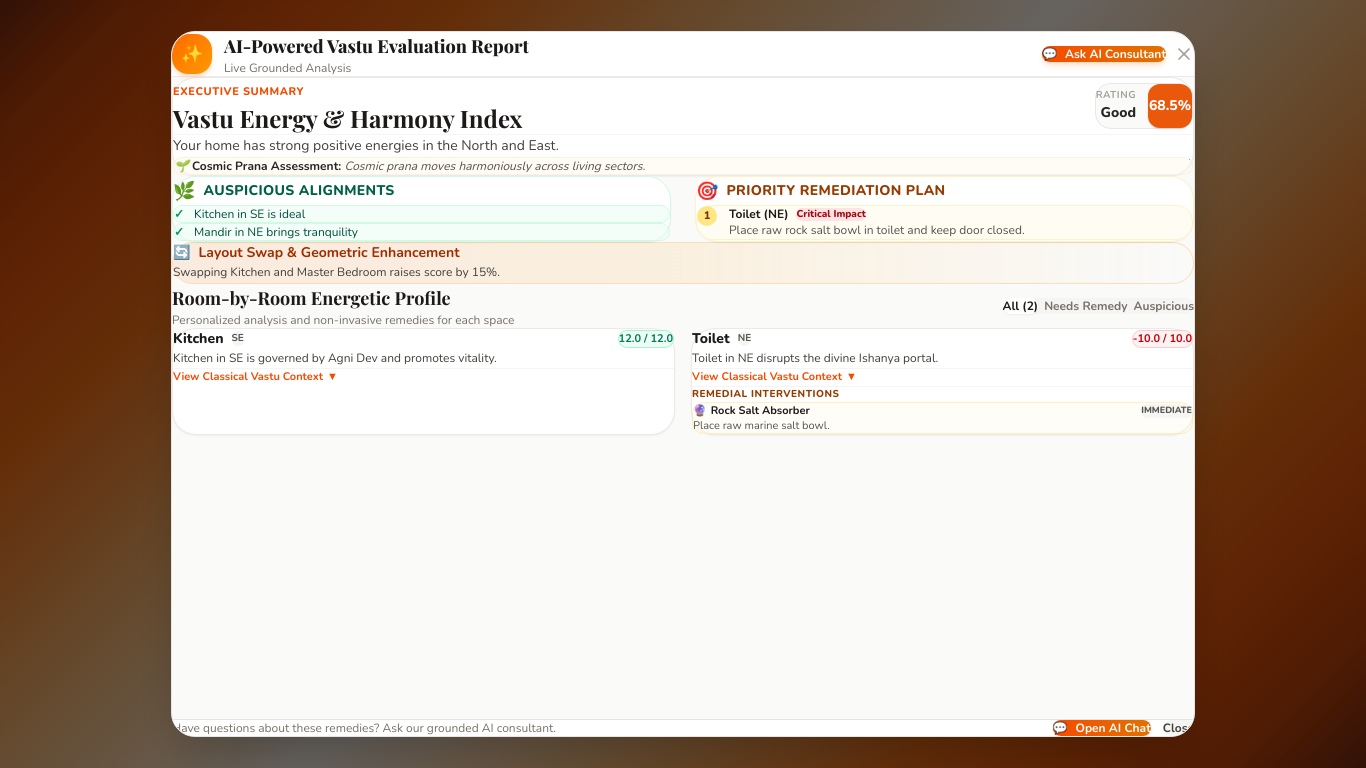
it: AIReportView Component › filters room list by status when clicking filter pills
The width and height of the screenshot is (1366, 768).
// Click 'Needs Remedy'
Click the button "Needs Remedy": (1086, 306) 1044,298 -> 1128,314
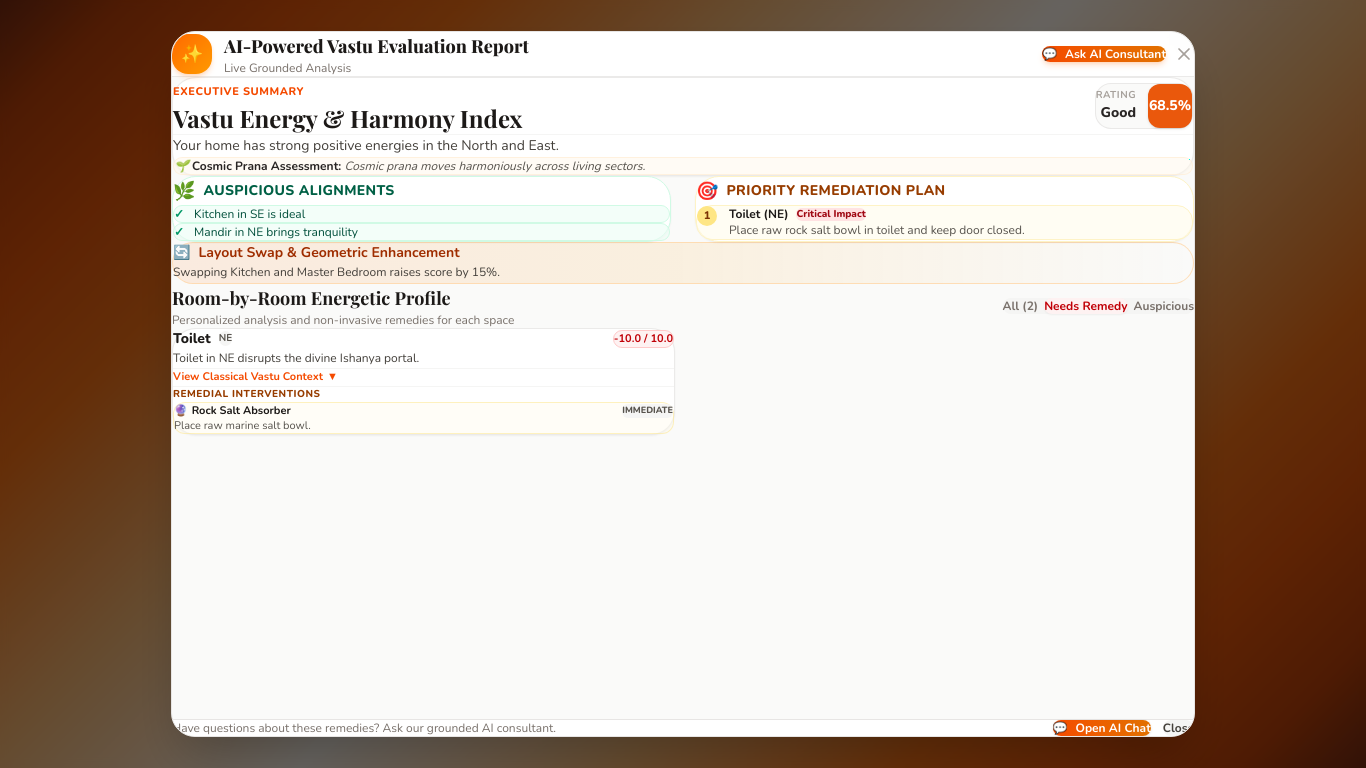
Expected: the text "Toilet in NE disrupts the divine Ishanya portal." is shown, 173,350 -> 419,366
Expected: the text "Kitchen in SE is governed by Agni Dev" is gone
// Click 'Auspicious'
Click the button "Auspicious": (1164, 306) 1134,298 -> 1194,314
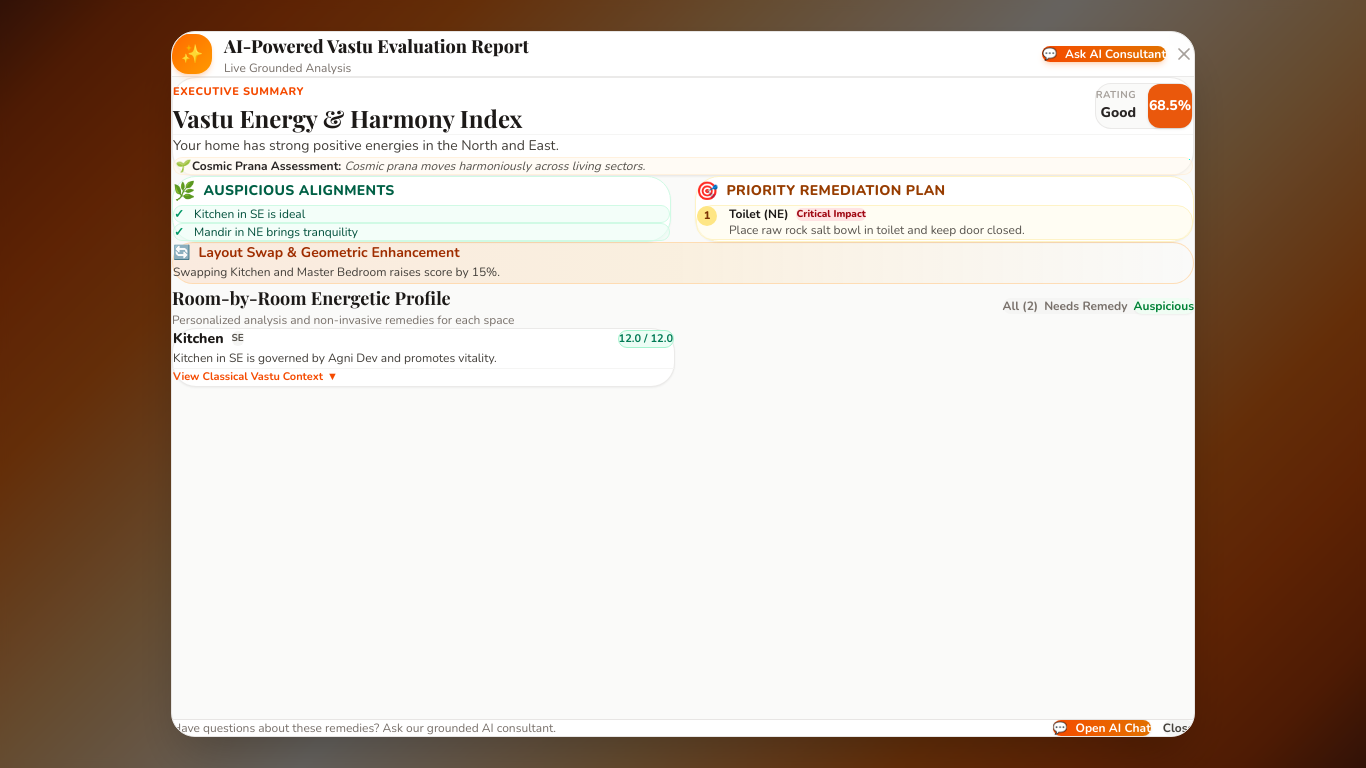
Expected: the text "Kitchen in SE is governed by Agni Dev and promotes vitality." is shown, 173,350 -> 497,366
Expected: the text "Toilet in NE disrupts the divine Ishanya portal" is gone
